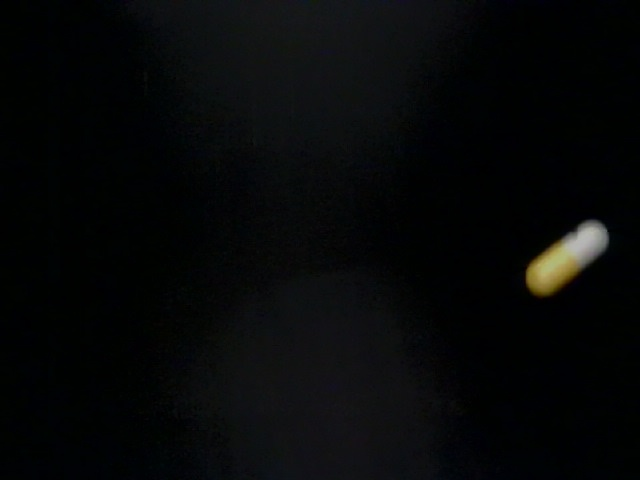YHLJ: (508, 376, 631, 453)
